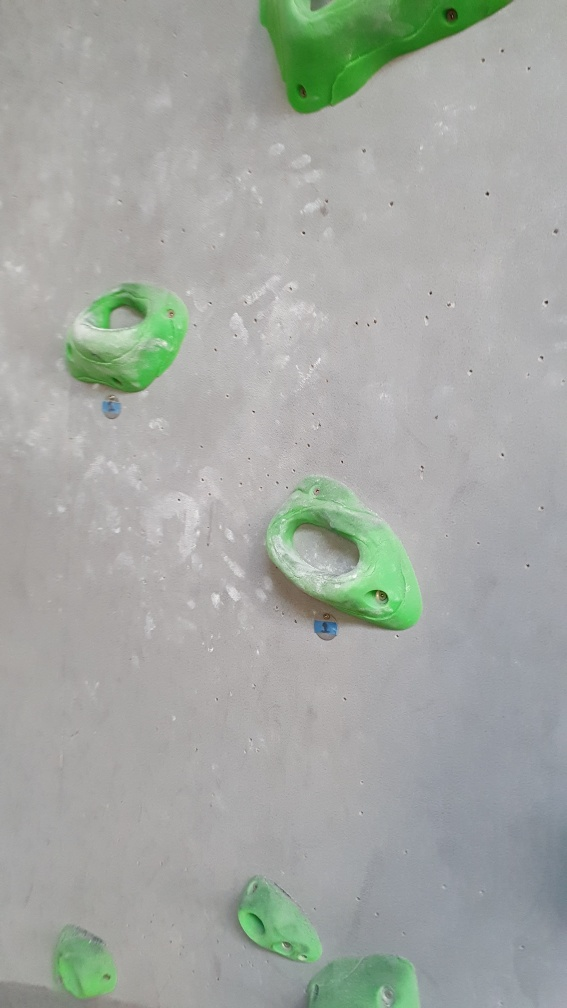Hand Start: (312, 611, 341, 647), (98, 394, 125, 422)
Pocket: (262, 472, 424, 633), (64, 276, 195, 398)
